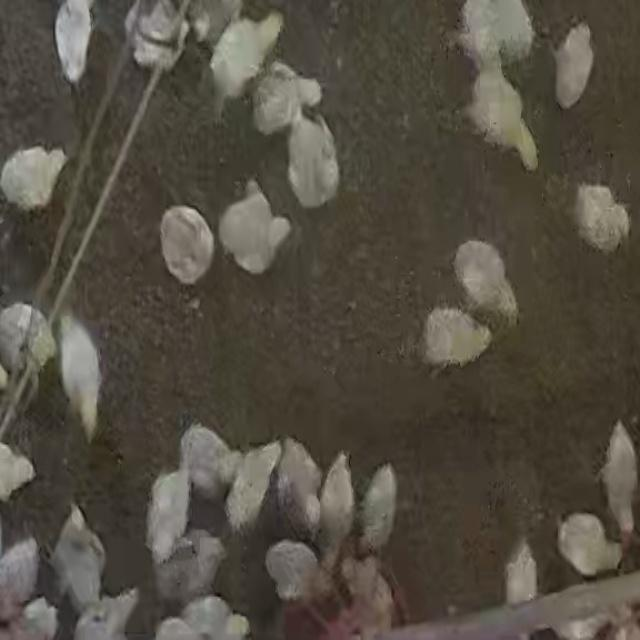chicken: (457, 62, 536, 173), (208, 12, 283, 114), (48, 500, 109, 610), (56, 312, 104, 442), (152, 527, 227, 607), (451, 238, 518, 326), (223, 186, 288, 274), (225, 438, 282, 538), (597, 417, 637, 555), (456, 2, 536, 69), (289, 110, 342, 208), (252, 63, 321, 138), (145, 465, 194, 567), (418, 306, 493, 372), (128, 0, 194, 75), (0, 146, 68, 215), (556, 511, 623, 580), (158, 204, 214, 285), (576, 172, 629, 256), (0, 302, 55, 382), (180, 420, 234, 500), (550, 21, 595, 110), (157, 596, 248, 640), (262, 538, 321, 604), (359, 459, 399, 555), (280, 434, 319, 529), (76, 588, 141, 640), (54, 2, 94, 86), (321, 454, 347, 572), (0, 541, 42, 610), (351, 561, 393, 620), (503, 538, 539, 606), (0, 601, 60, 640), (0, 437, 35, 499)
